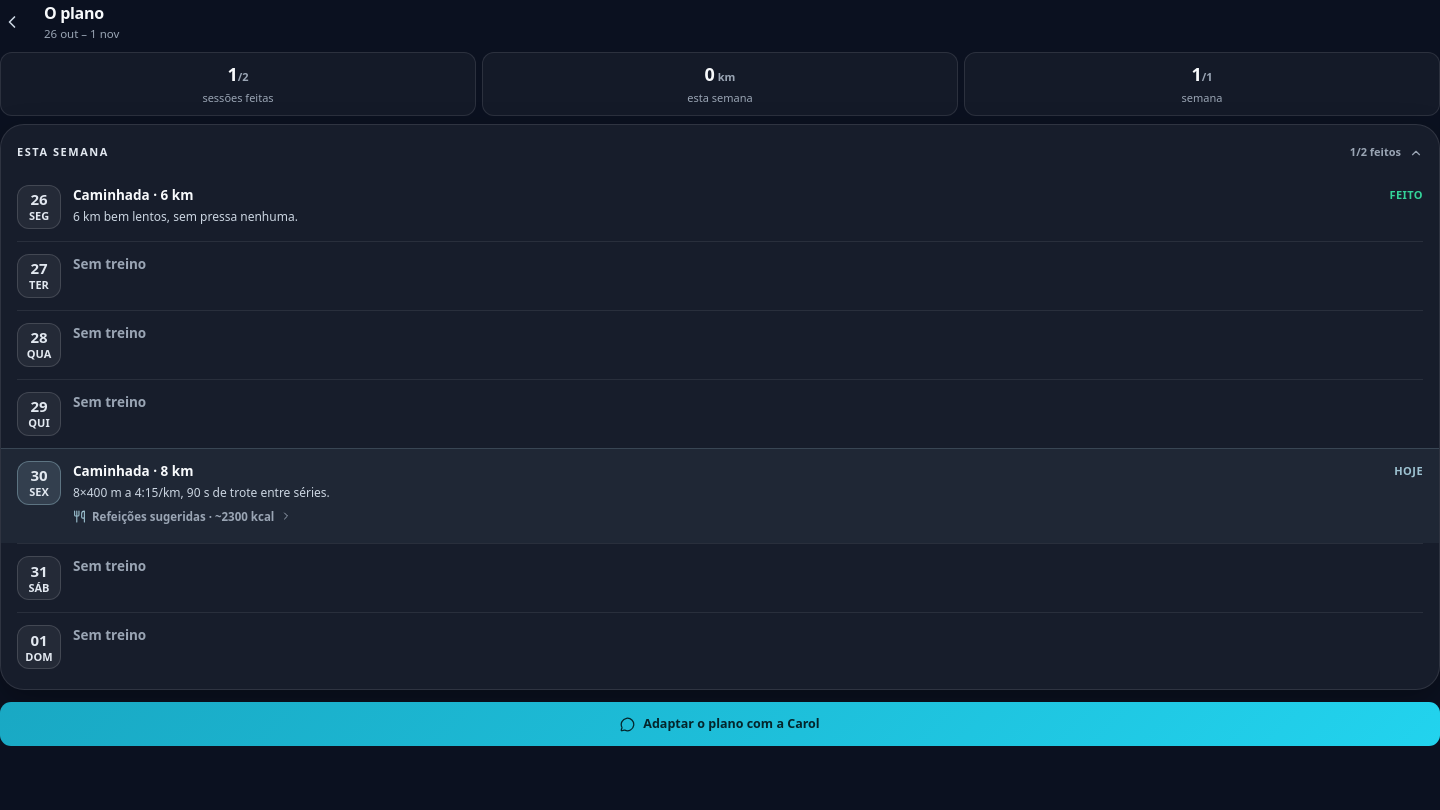
Test: PlanoScreen › as refeições sugeridas abrem a persiana DESSE dia
Click the button "Refeições sugeridas · ~2300 kcal": (183, 516) [73,494,292,538]
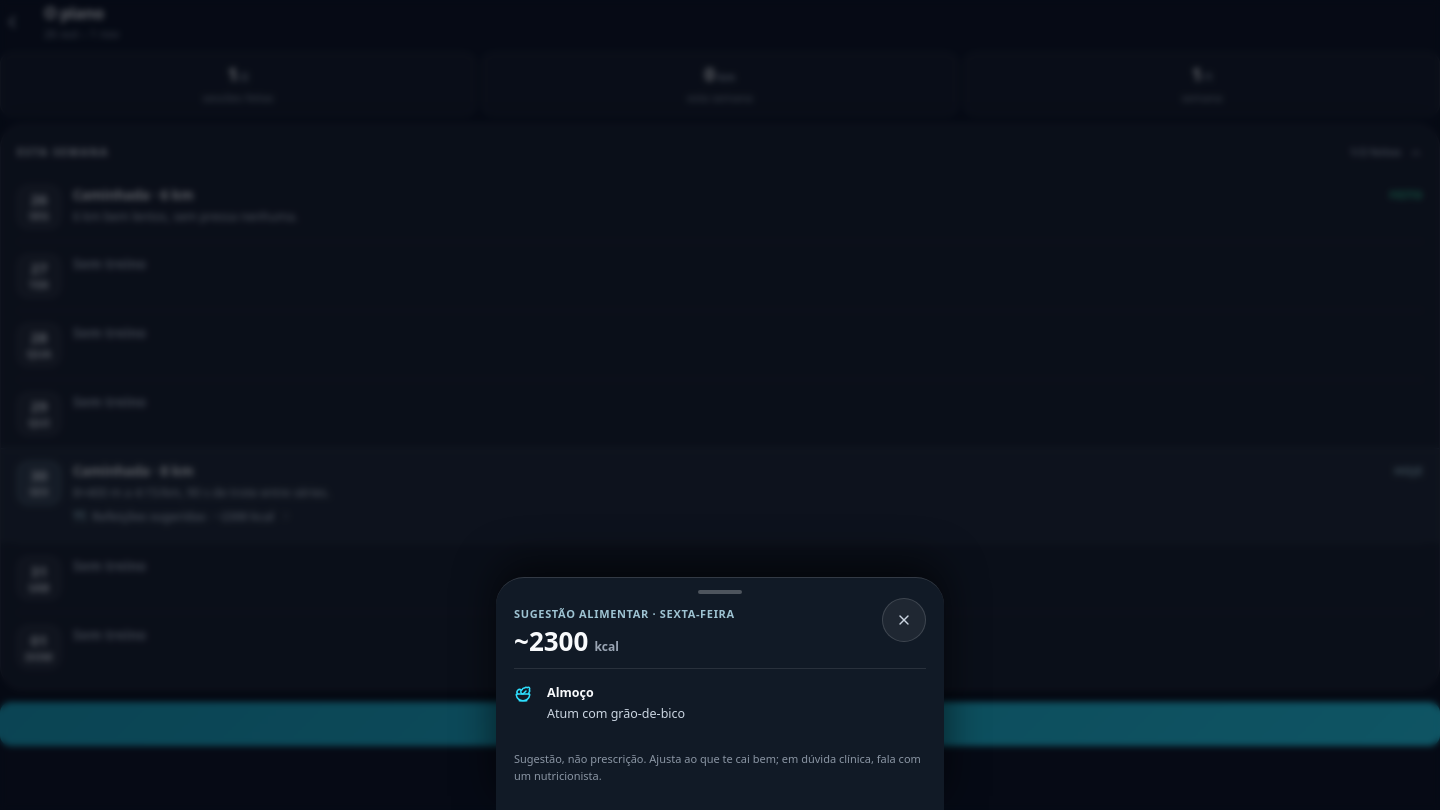
Check: the dialog with test id "meal-sheet" shows "Atum com grão-de-bico", box [547,705,685,722]
Check: the dialog with test id "meal-sheet" shows "2300", box [529,622,588,658]
